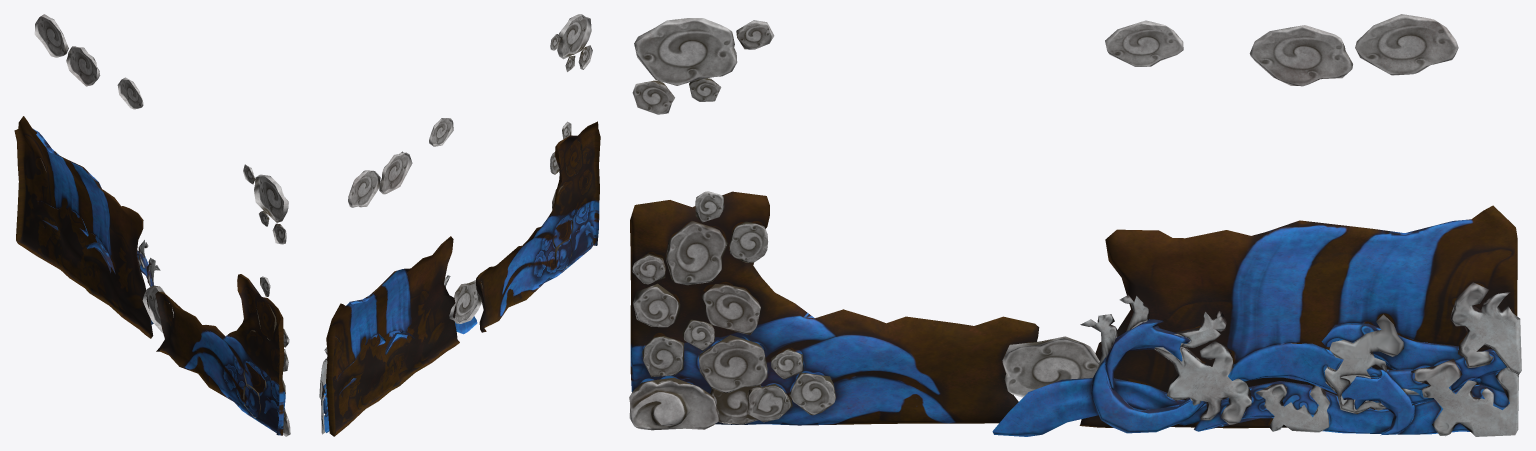
The model's file is SM_CarvedWallFull.fbx.
3 renders of one model, left to right at view 1: azimuth 30°, elevation 25°; view 2: azimuth 150°, elevation 25°; view 3: azimuth 270°, elevation 25°, orthographic. The views are drawn at different scales.
Visible parts, largest first — view 1: SM_CarvedWallFull_LOD0; view 2: SM_CarvedWallFull_LOD0; view 3: SM_CarvedWallFull_LOD0.
Part boxes in pixels (<box>): SM_CarvedWallFull_LOD0: <box>14,14,290,436</box>; SM_CarvedWallFull_LOD0: <box>319,14,600,436</box>; SM_CarvedWallFull_LOD0: <box>629,14,1521,436</box>.
Bounding box in the file's own units: 27.69 × 532 × 272.
